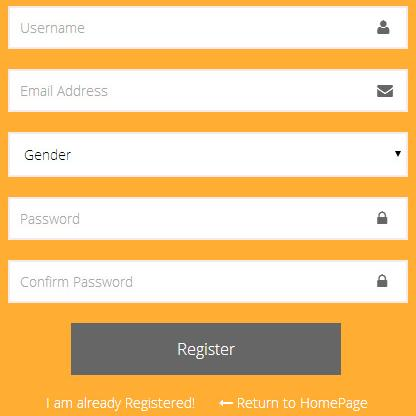button: (70, 322, 341, 377)
field: (7, 130, 410, 178), (7, 195, 409, 242), (6, 68, 411, 114), (7, 258, 409, 304), (6, 5, 409, 50)
